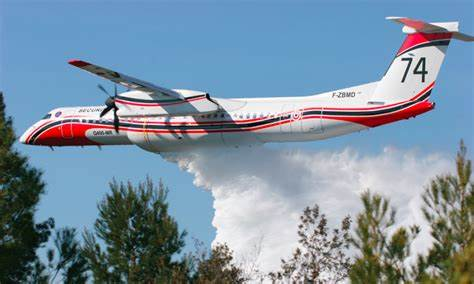Aeronef_de_service: (16, 10, 474, 157)
